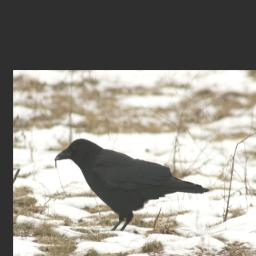Crow: (50, 133, 208, 234)
